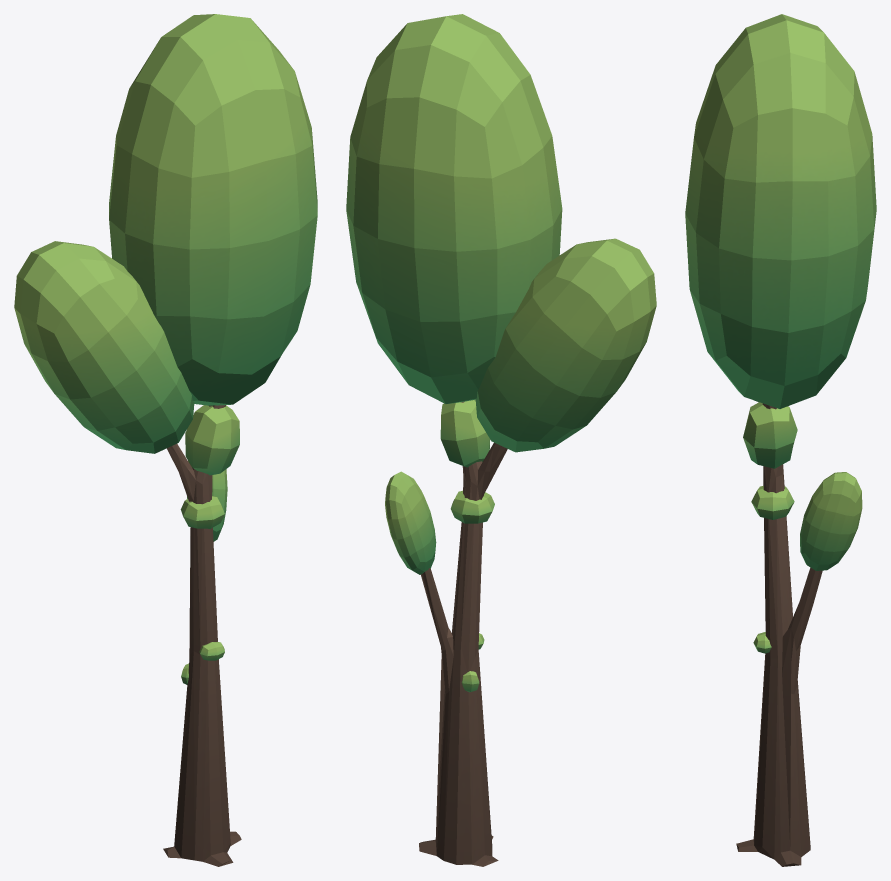
The model's file is Tree_transform.fbx.
3 views of the same model, side by side, from view 1: azimuth 30°, elevation 25°; view 2: azimuth 150°, elevation 25°; view 3: azimuth 270°, elevation 25° (orthographic).
Parts seen in each view (by area): view 1: Cube.002; view 2: Cube.002; view 3: Cube.002.
Part boxes in pixels (box(x1,y1,x2,y2)): Cube.002: box(14, 14, 317, 866); Cube.002: box(346, 14, 656, 866); Cube.002: box(685, 14, 876, 866).
Bounding box in the file's own units: 3.62 × 9.98 × 2.07.
